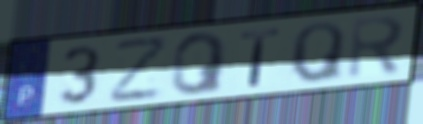3: (57, 43, 103, 106)
Q: (169, 30, 230, 97), (288, 20, 347, 85)
R: (345, 13, 409, 82)
T: (238, 25, 284, 89)
Z: (108, 33, 172, 106)
